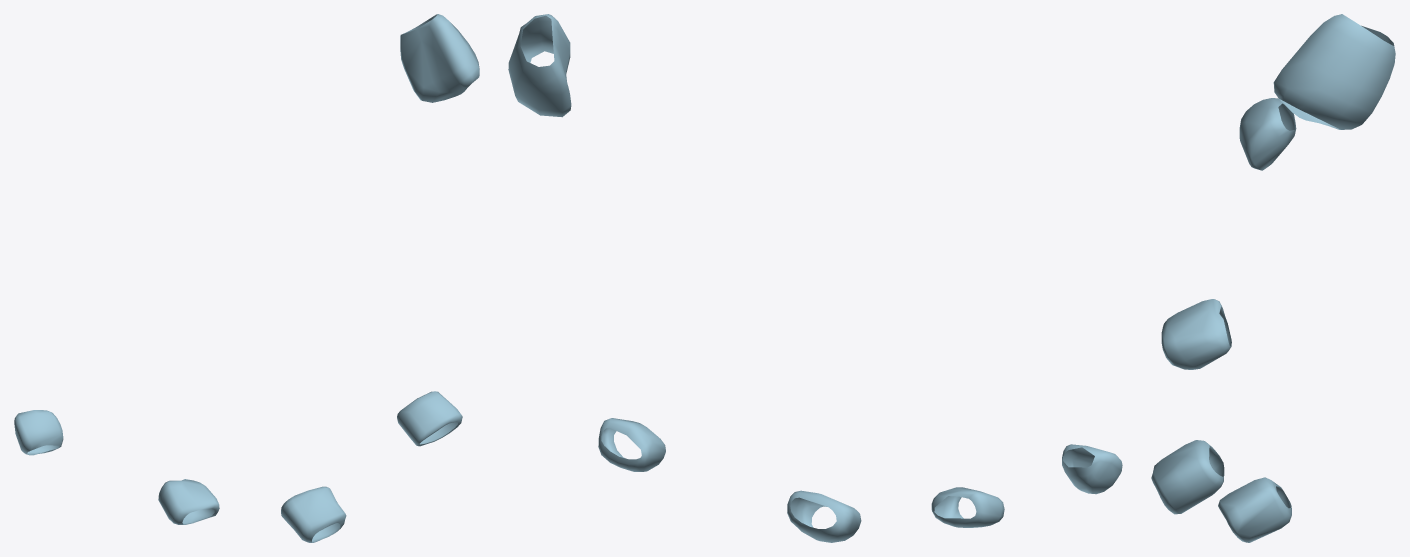
Rendered from articulacoes-articular-capsules-of-distal-interphalangeal-joints-l.glb.
3 renders of one model, left to right at view 1: azimuth 30°, elevation 25°; view 2: azimuth 150°, elevation 25°; view 3: azimuth 270°, elevation 25°, orthographic. The views are drawn at different scales.
Visible parts, largest first — view 1: Articular capsules of distal interphalangeal joints.l; view 2: Articular capsules of distal interphalangeal joints.l; view 3: Articular capsules of distal interphalangeal joints.l.
Part boxes in pixels (x1,y1,x2,y2): Articular capsules of distal interphalangeal joints.l: (14,14,479,542); Articular capsules of distal interphalangeal joints.l: (508,14,1122,542); Articular capsules of distal interphalangeal joints.l: (1151,14,1395,542).
Bounding box in the file's own units: 0.1052 × 0.0918 × 0.033.
